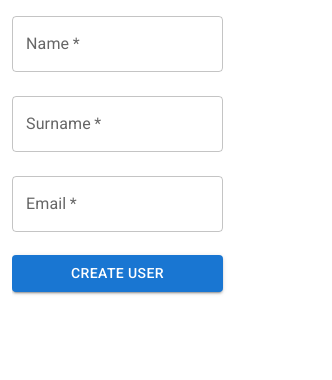
Scenario: UserForm › should display name input › with empty field error
Click the button "Create User": (118,273) [12,255,223,292]
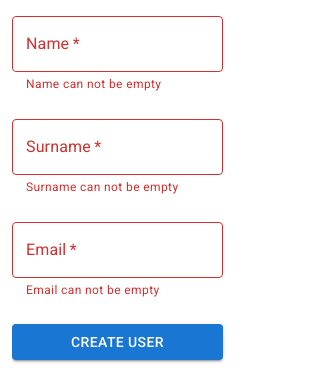
expect the text "Name can not be empty" is shown: met, box [26,77,162,91]
